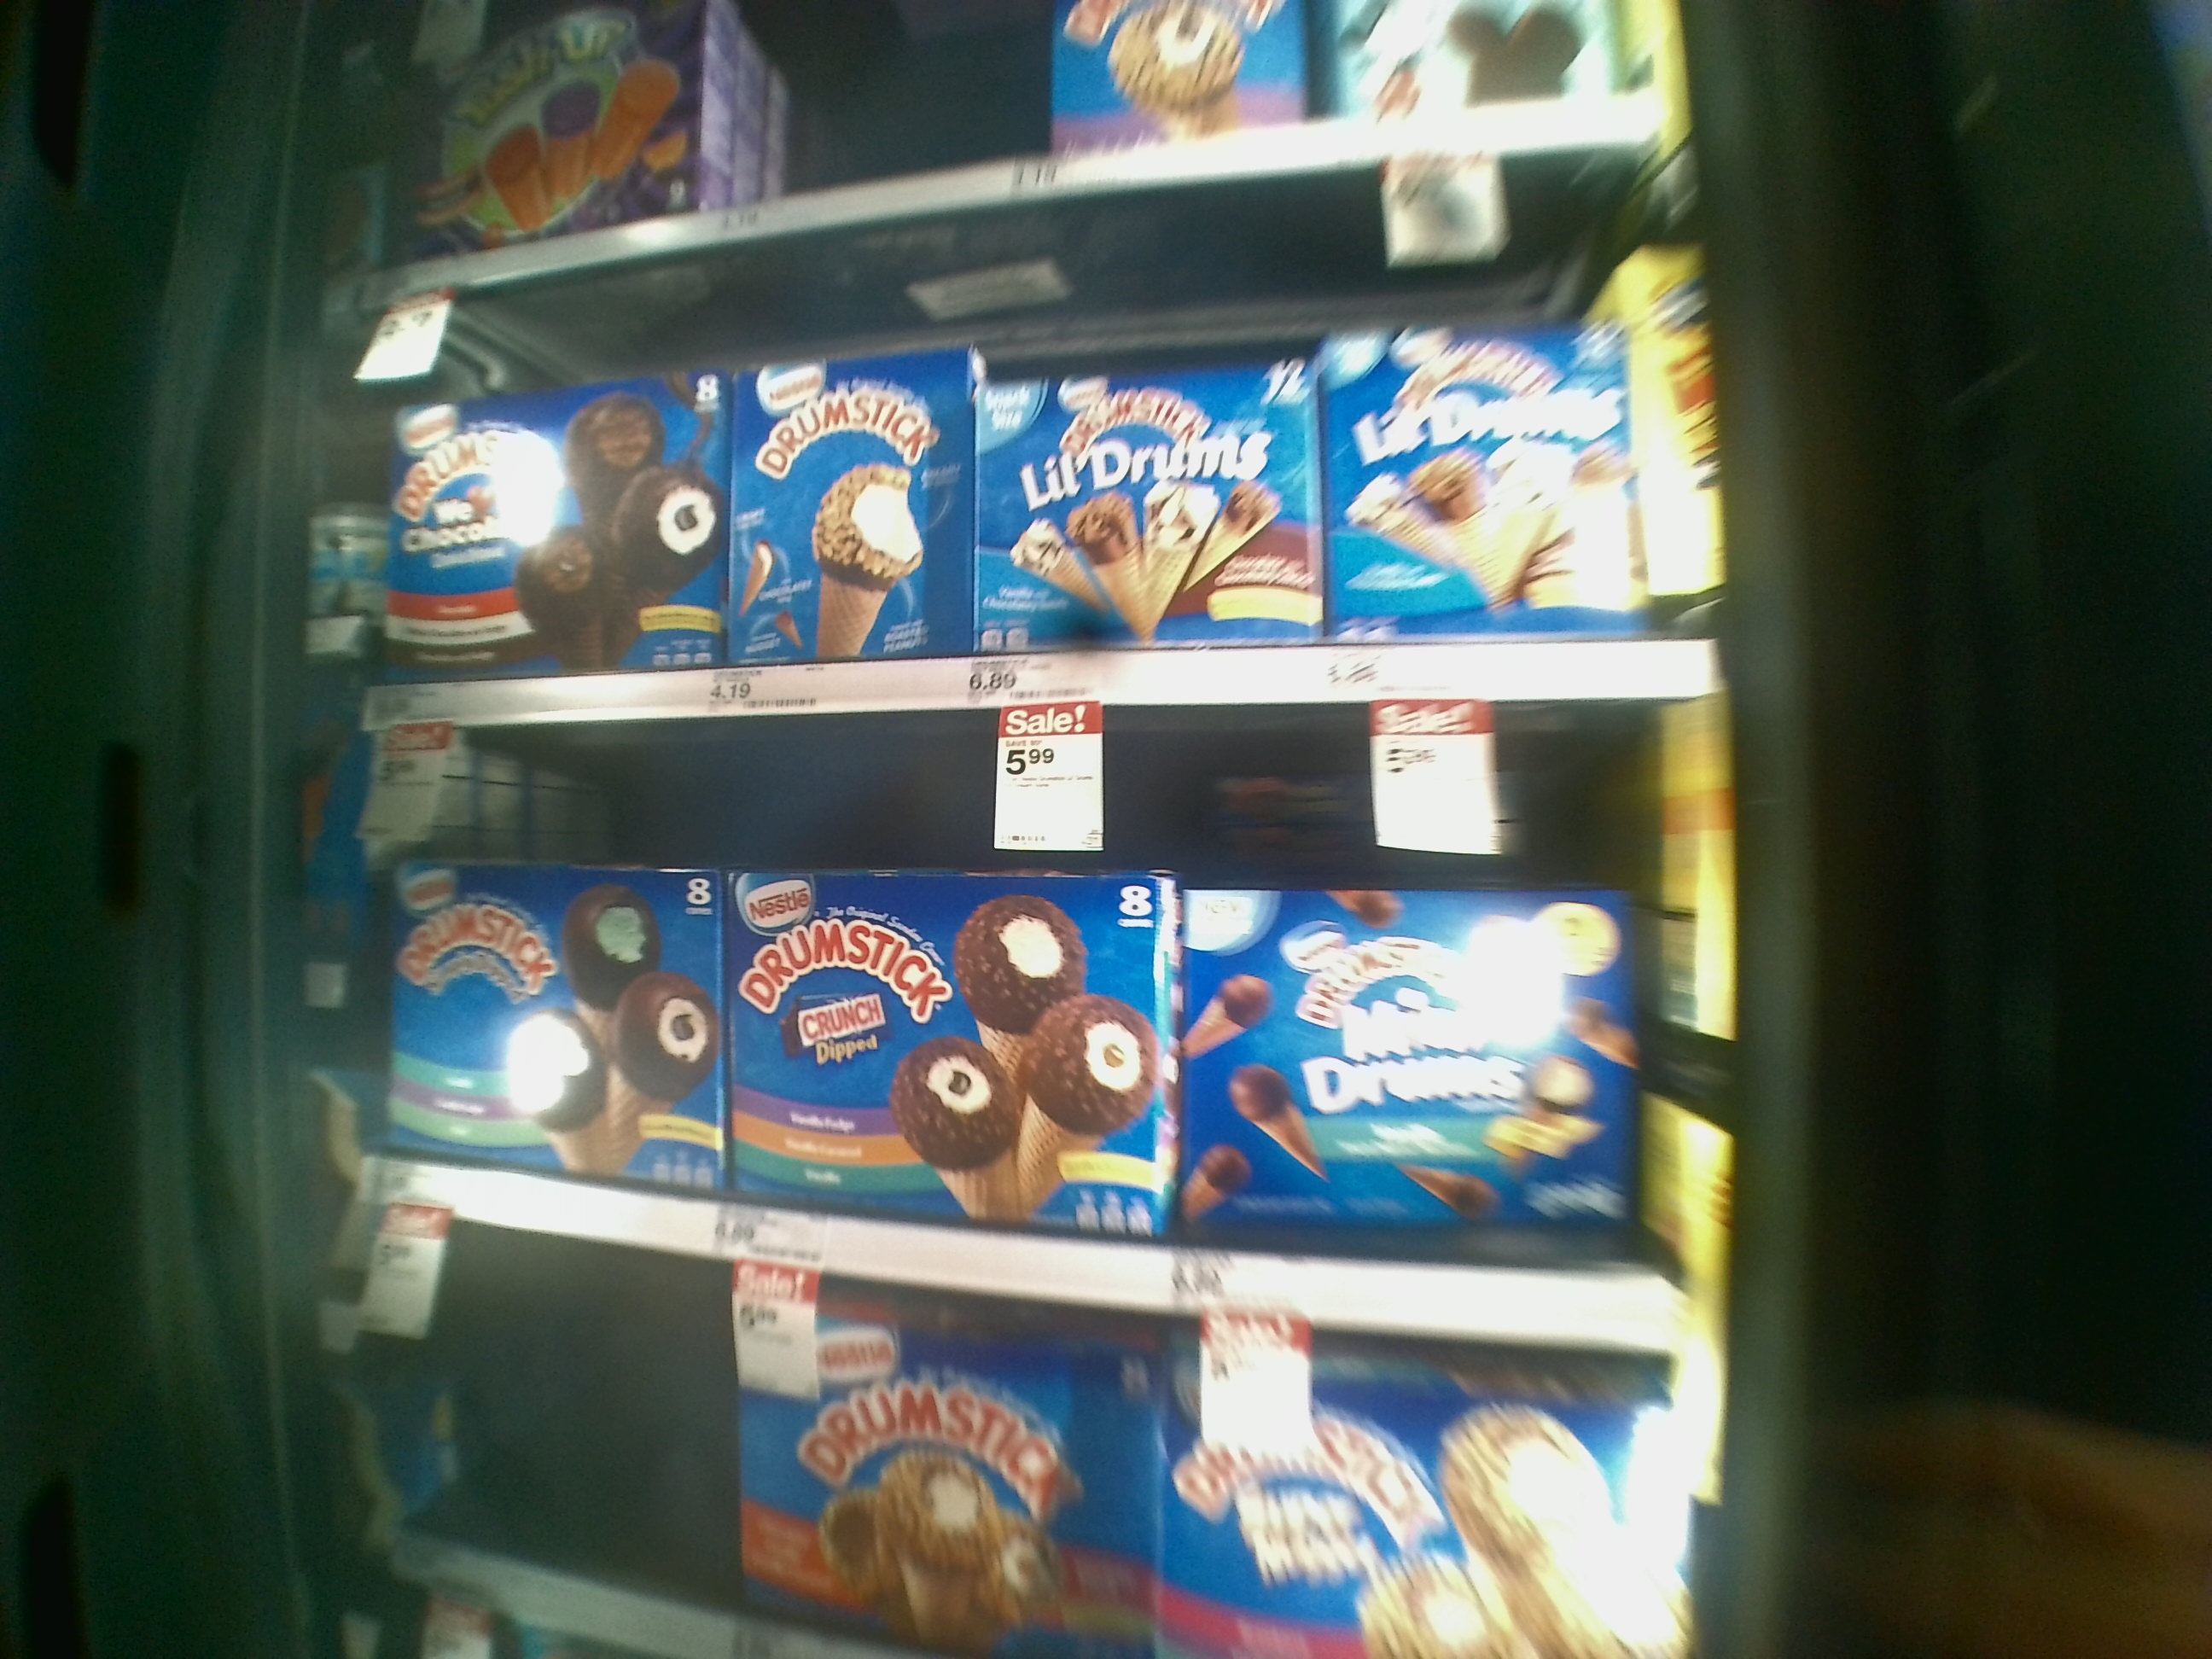shelf: (336, 697, 1731, 1279), (329, 157, 1731, 708)
